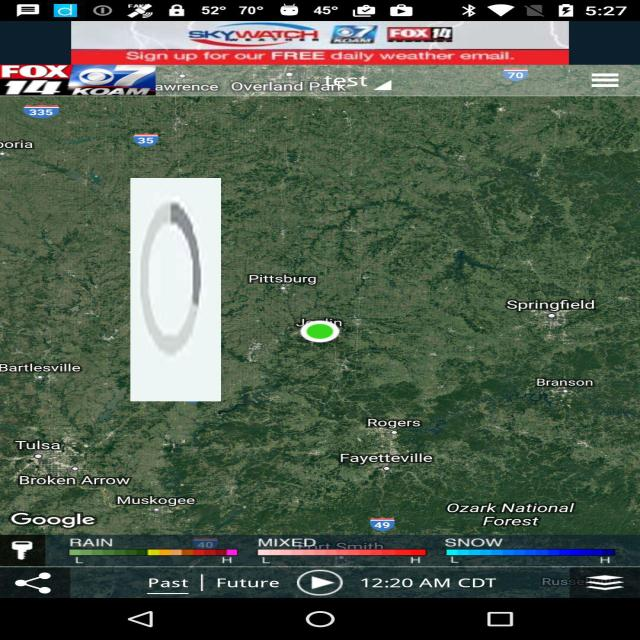misdirection: (130, 178, 221, 401)
